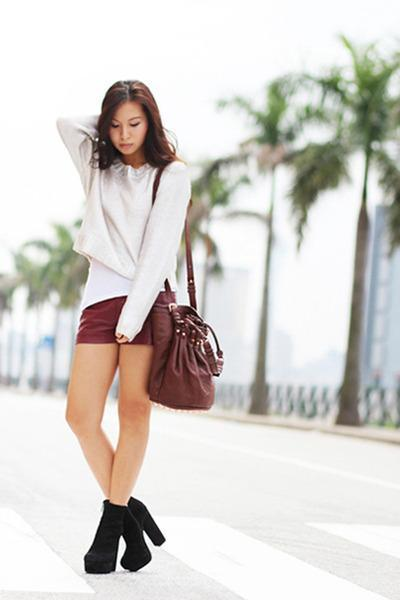bag: (145, 168, 223, 409)
jacket: (56, 115, 194, 341)
shoe: (84, 497, 165, 573)
shorts: (77, 278, 185, 355)
